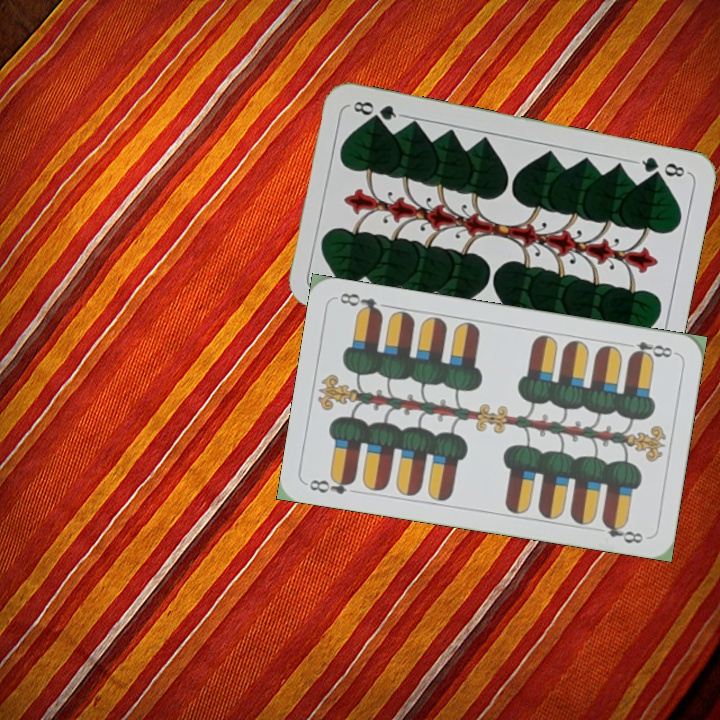E8: (620, 337, 678, 362), (305, 472, 358, 497)
G8: (632, 152, 691, 180)
